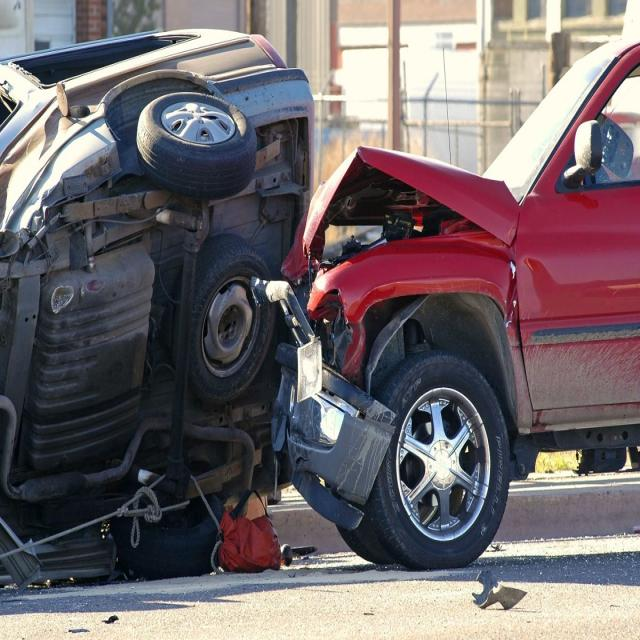car-moderate-accident: (7, 19, 640, 617)
